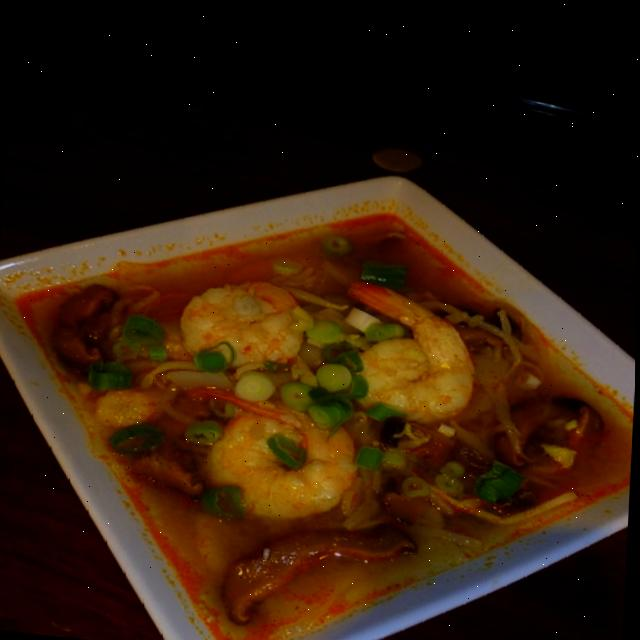汤锅炖物: (18, 148, 625, 640)
